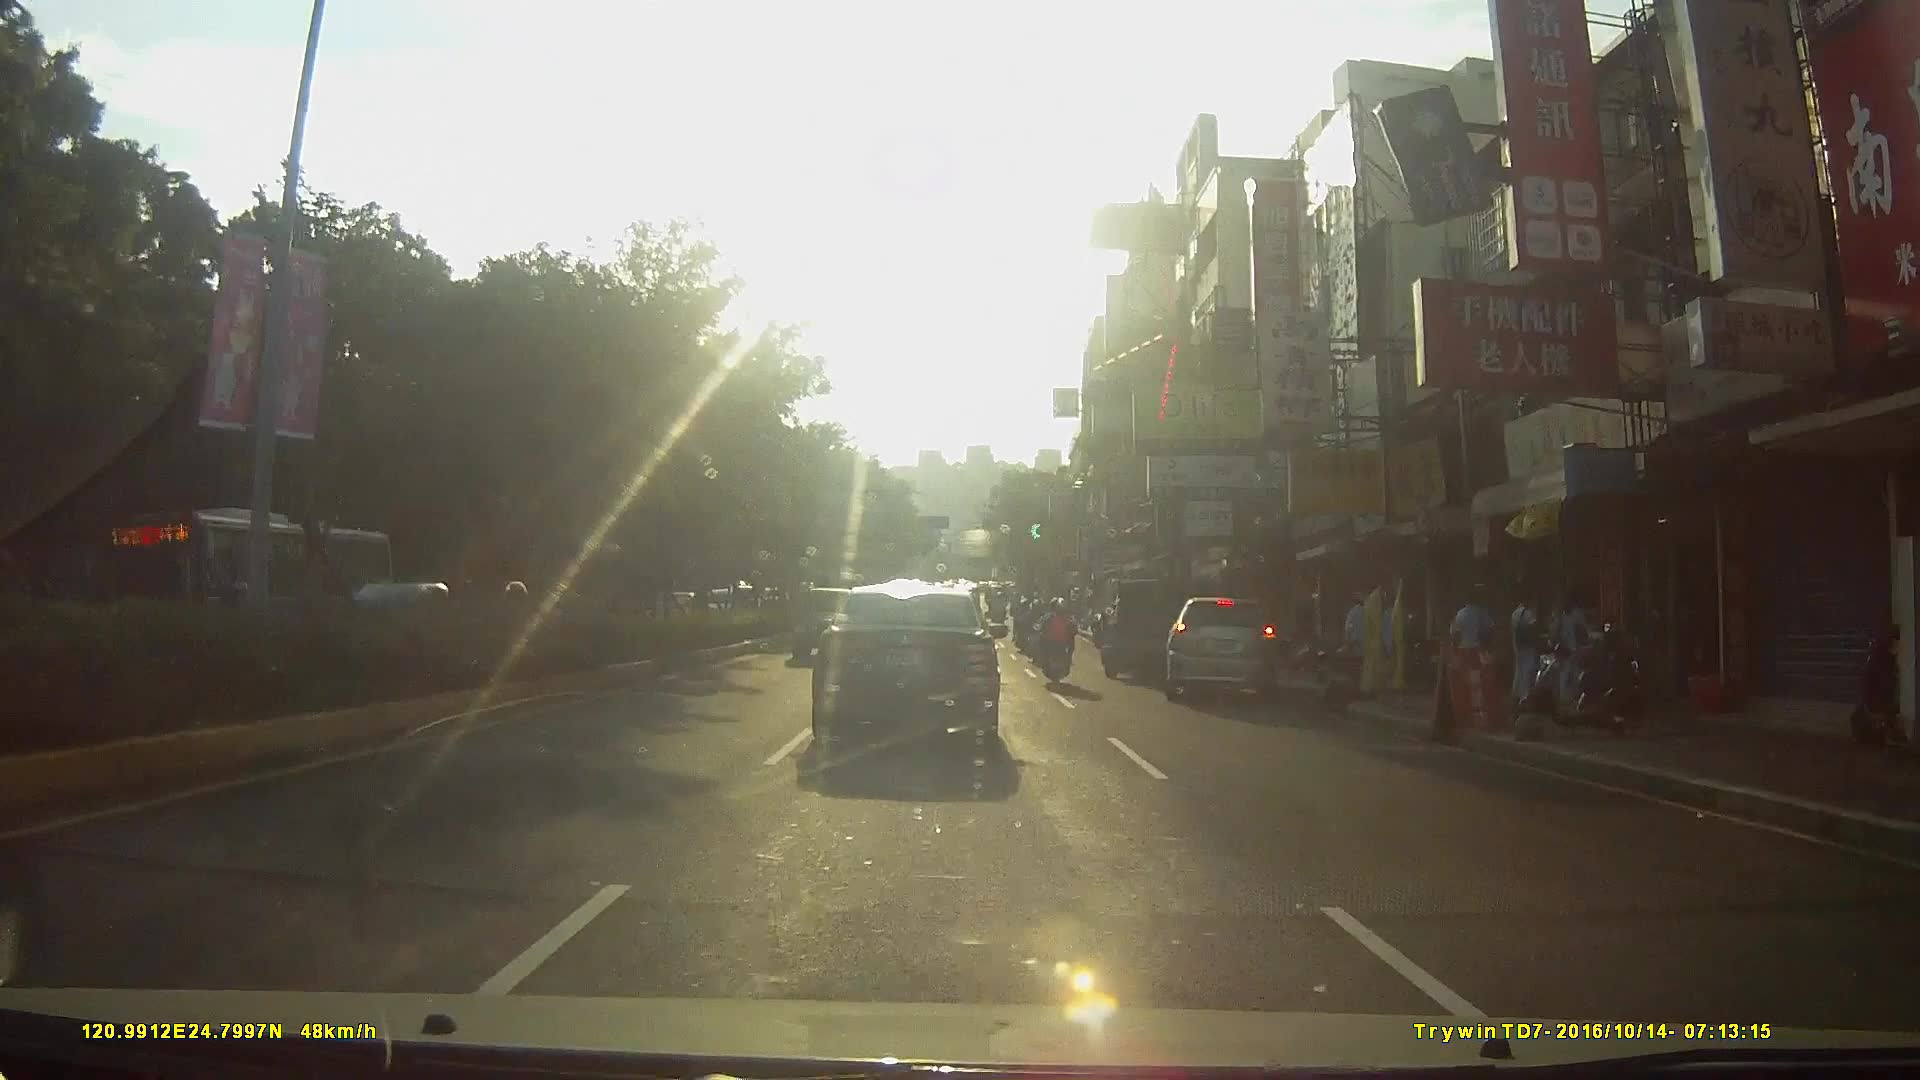pedestrian: (1450, 594, 1494, 700), (1555, 587, 1588, 691), (1343, 587, 1376, 684), (1512, 589, 1539, 701)
rider: (1036, 595, 1080, 693), (1017, 597, 1043, 660)
vehicle: (120, 511, 393, 667), (815, 590, 1030, 771), (1162, 595, 1301, 712), (1096, 574, 1206, 690)
